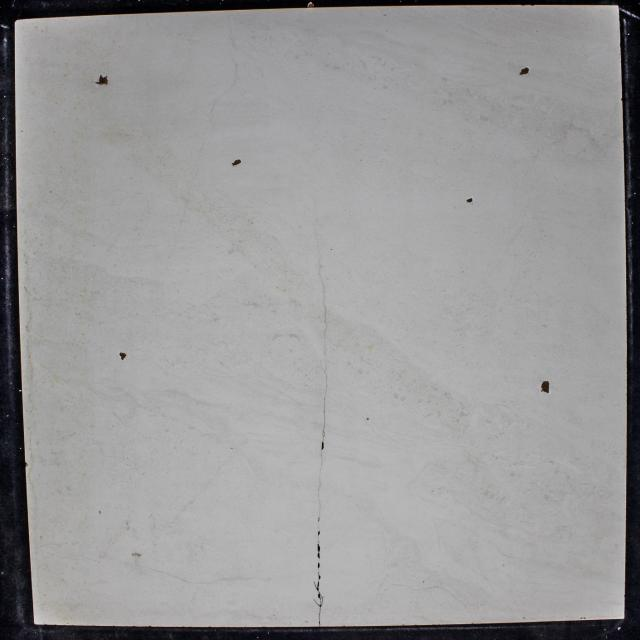hole: (539, 379, 552, 395), (95, 74, 110, 87), (118, 350, 128, 361), (518, 67, 530, 76), (232, 158, 242, 167), (320, 441, 326, 451), (466, 197, 474, 204), (366, 417, 370, 421)
line: (312, 530, 324, 625), (322, 303, 329, 440), (317, 452, 324, 529)
